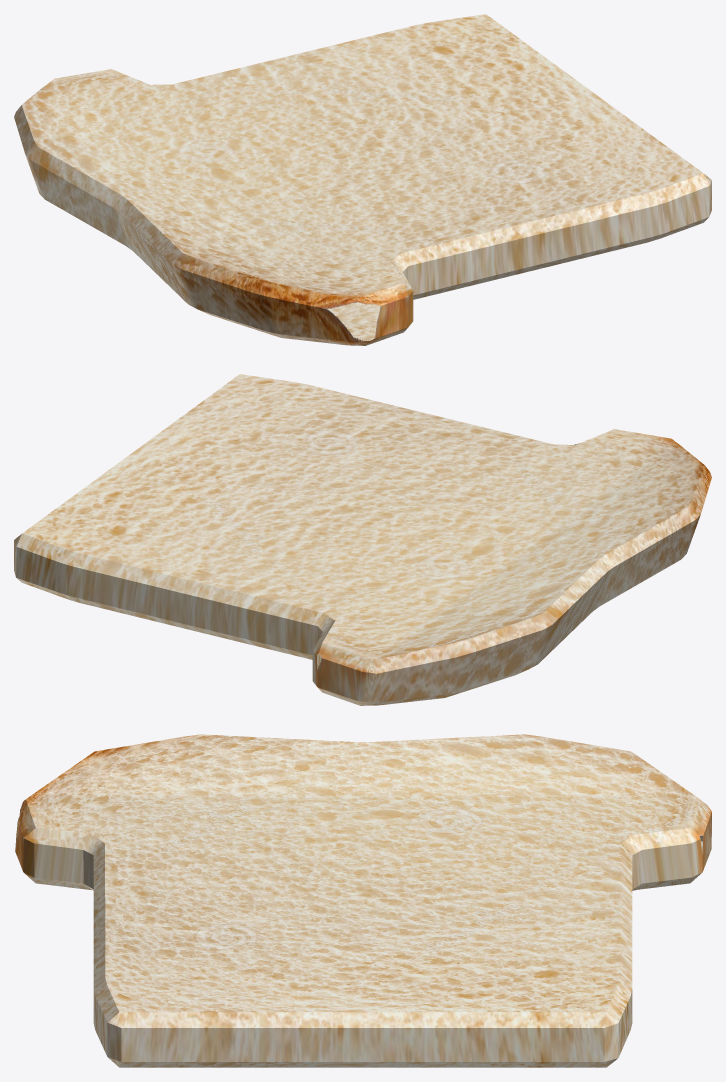
Rendered from bread_withtexture.fbx.
The picture shows the model from 3 angles, top to bottom: view 1: azimuth 30°, elevation 25°; view 2: azimuth 150°, elevation 25°; view 3: azimuth 270°, elevation 25°; orthographic projection. The views are drawn at different scales.
Parts seen in each view (by area): view 1: pCube1; view 2: pCube1; view 3: pCube1.
Boxes of the visible parts, x1,y1,x2,y2 form: pCube1: (14, 14, 711, 345); pCube1: (14, 374, 711, 705); pCube1: (15, 734, 711, 1067).
Size of the model in its own units: 76.63 by 8.95 by 82.47.
